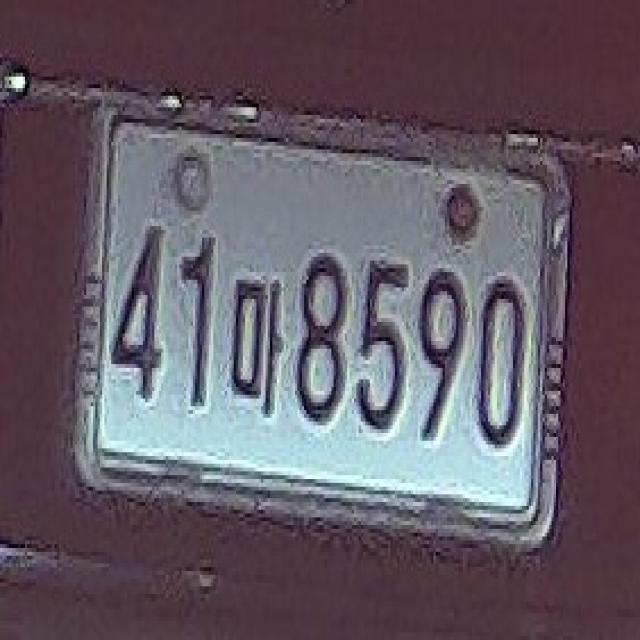0: (477, 272, 524, 452)
1: (177, 230, 218, 410)
4: (104, 222, 170, 399)
5: (356, 249, 411, 437)
8: (293, 242, 347, 429)
9: (411, 260, 467, 440)
license_plate: (80, 104, 560, 532)
ma: (229, 268, 284, 422)
